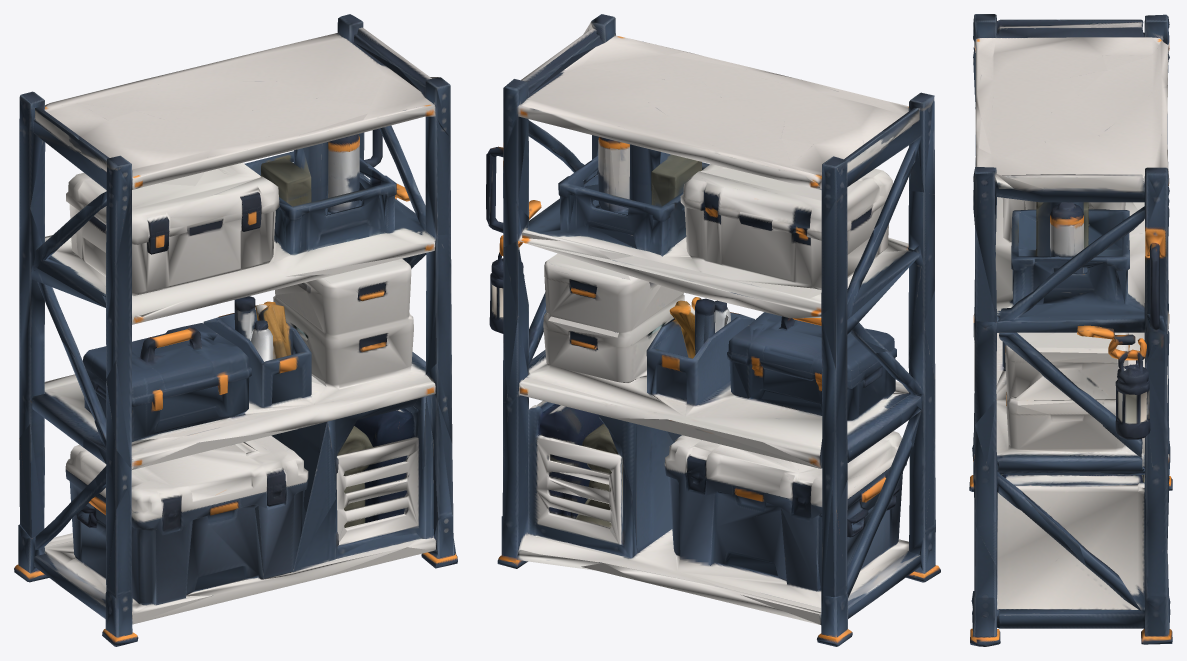
The model's file is CAMP_PROP_002_storage_shelf.glb.
The picture shows the model from 3 angles, left to right: view 1: azimuth 30°, elevation 25°; view 2: azimuth 150°, elevation 25°; view 3: azimuth 270°, elevation 25°; orthographic projection.
Visible parts, largest first — view 1: Mesh_0; view 2: Mesh_0; view 3: Mesh_0.
Boxes of the visible parts, bbox=[...] form: Mesh_0: bbox=[14, 14, 457, 646]; Mesh_0: bbox=[486, 14, 940, 646]; Mesh_0: bbox=[969, 14, 1172, 646].
Bounding box in the file's own units: 1.53 × 1.9 × 0.7463.
1 material, 1 textured.
